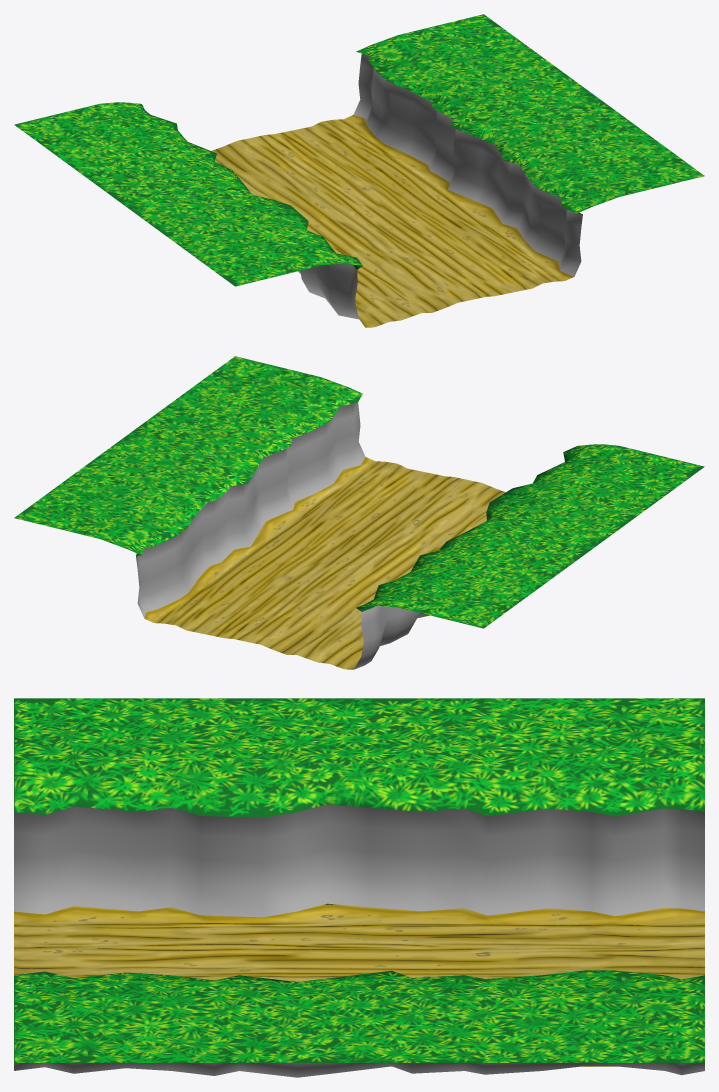
The model's file is LevelTile01.fbx.
3 renders of one model, top to bottom at view 1: azimuth 30°, elevation 25°; view 2: azimuth 150°, elevation 25°; view 3: azimuth 270°, elevation 25°, orthographic. The views are drawn at different scales.
Parts seen in each view (by area): view 1: pCube2; view 2: pCube2; view 3: pCube2.
Part boxes in pixels (bbox=[...]): pCube2: bbox=[14, 14, 704, 327]; pCube2: bbox=[14, 356, 704, 669]; pCube2: bbox=[14, 698, 704, 1077].
Bounding box in the file's own units: 2223 × 339 × 1812.
